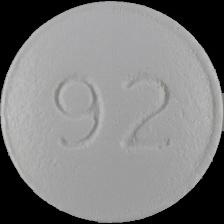0093-5261: (0, 0, 224, 224)
